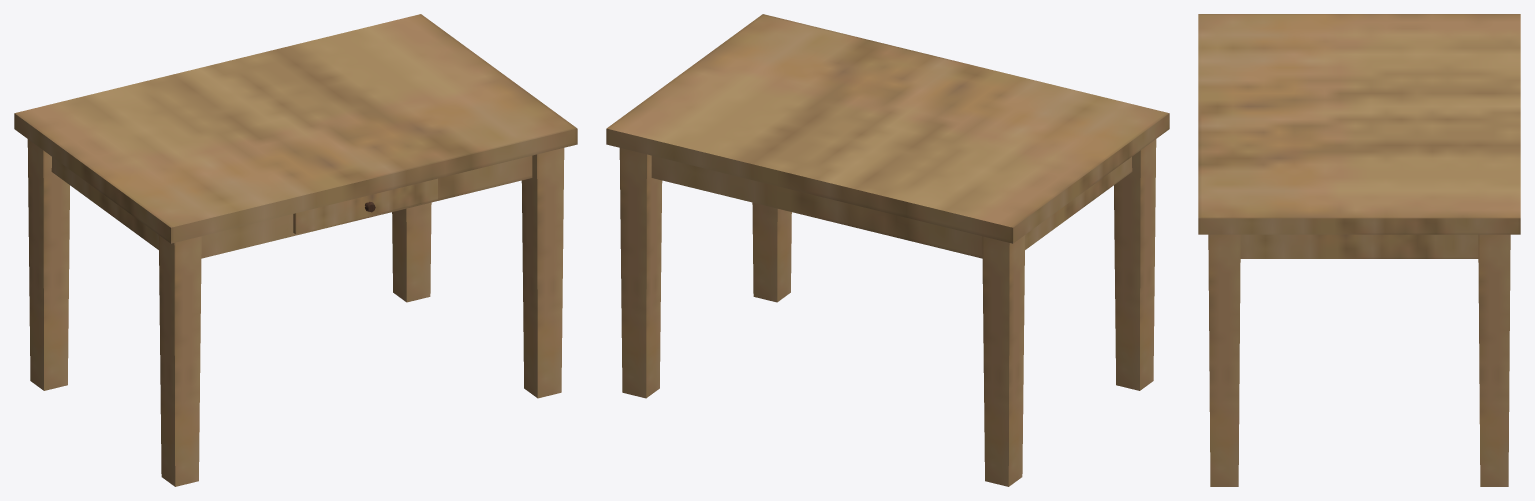
The model's file is table_pine.obj.
3 views of the same model, side by side, from view 1: azimuth 30°, elevation 25°; view 2: azimuth 150°, elevation 25°; view 3: azimuth 270°, elevation 25° (orthographic). The views are drawn at different scales.
Visible parts, largest first — view 1: table_pine; view 2: table_pine; view 3: table_pine.
Boxes of the visible parts, x1,y1,x2,y2 form: table_pine: [14, 14, 577, 486]; table_pine: [606, 14, 1169, 486]; table_pine: [1198, 14, 1520, 486].
Bounding box in the file's own units: 1.2 × 0.75 × 0.8.
Materials: 1 (1 with a texture image).
